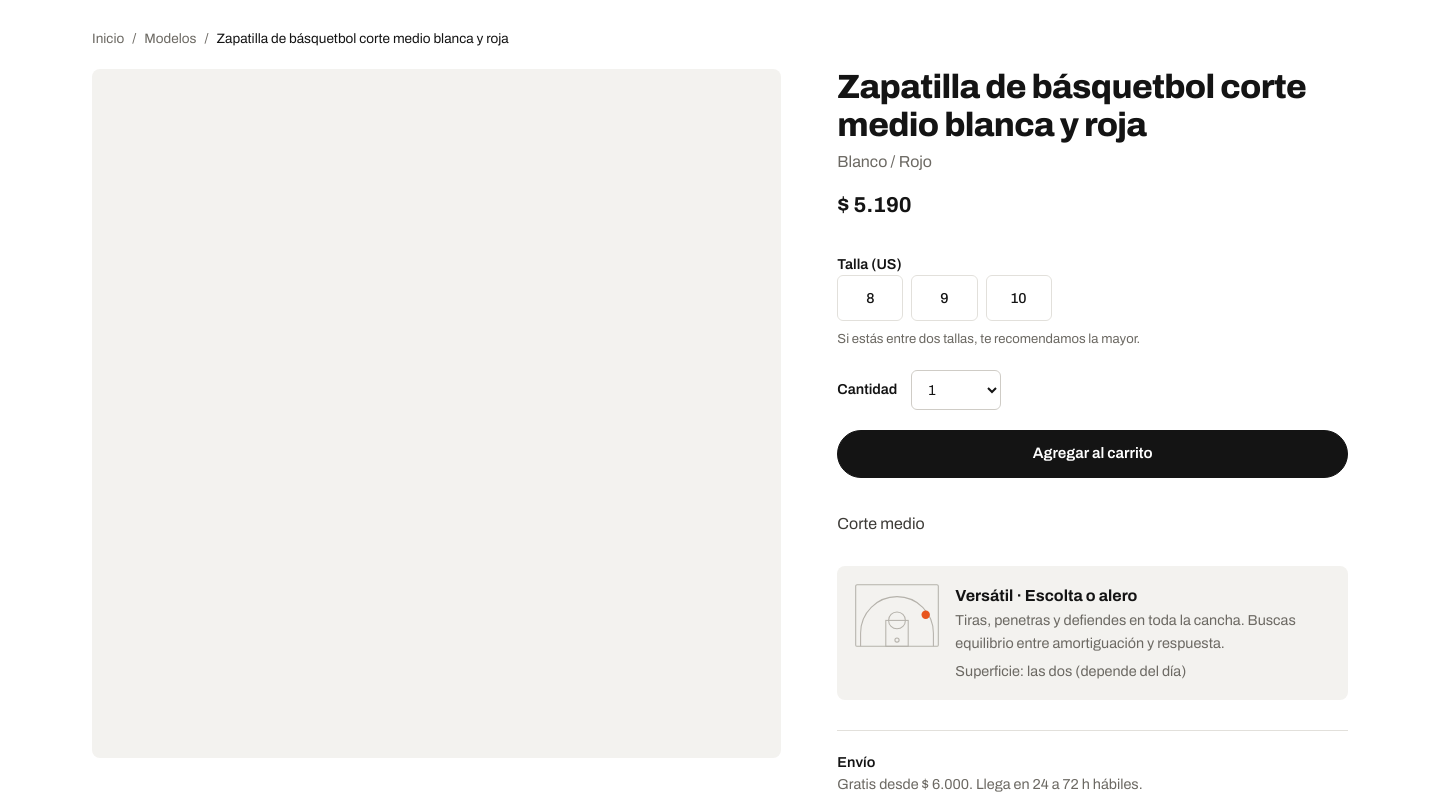
Test case: ficha de producto › pide elegir talla antes de agregar
Click the button "Agregar al carrito" at (1093, 454), box [837,430,1348,478]
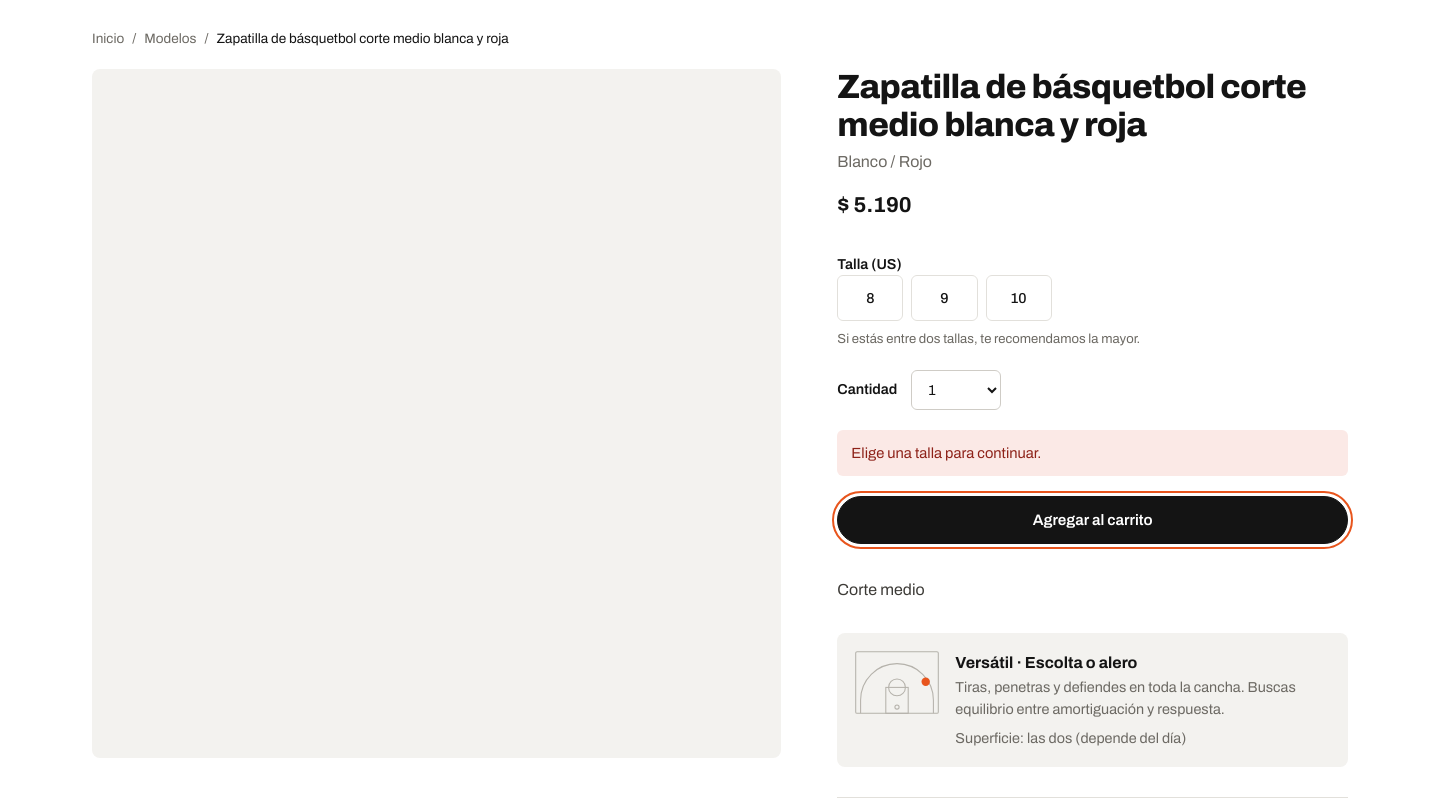
Result: the message reads "Elige una talla para continuar." at [851,445,1041,461]
